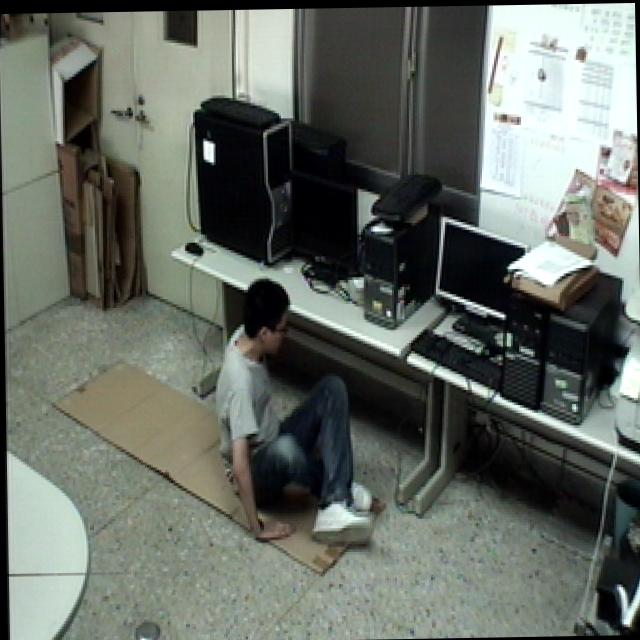sit: (204, 268, 385, 557)
